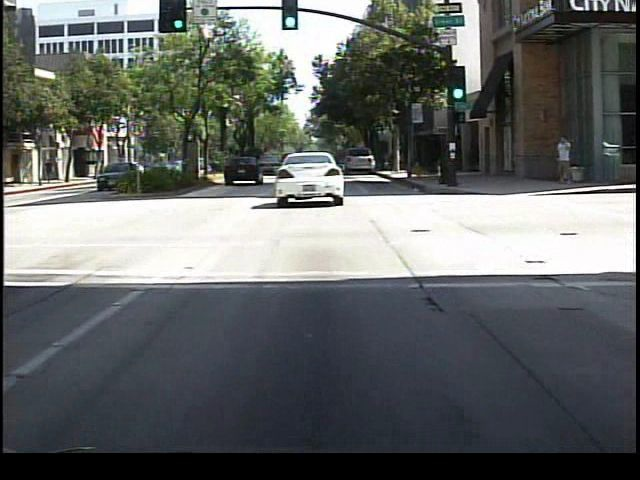person: (551, 135, 575, 191), (42, 157, 57, 191)
